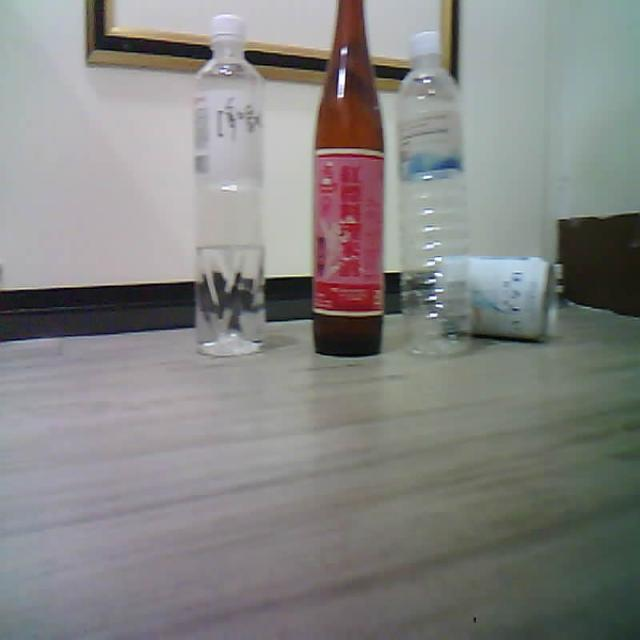bottle: (312, 0, 384, 355), (194, 14, 265, 355), (398, 32, 470, 353)
can: (468, 257, 554, 340)
